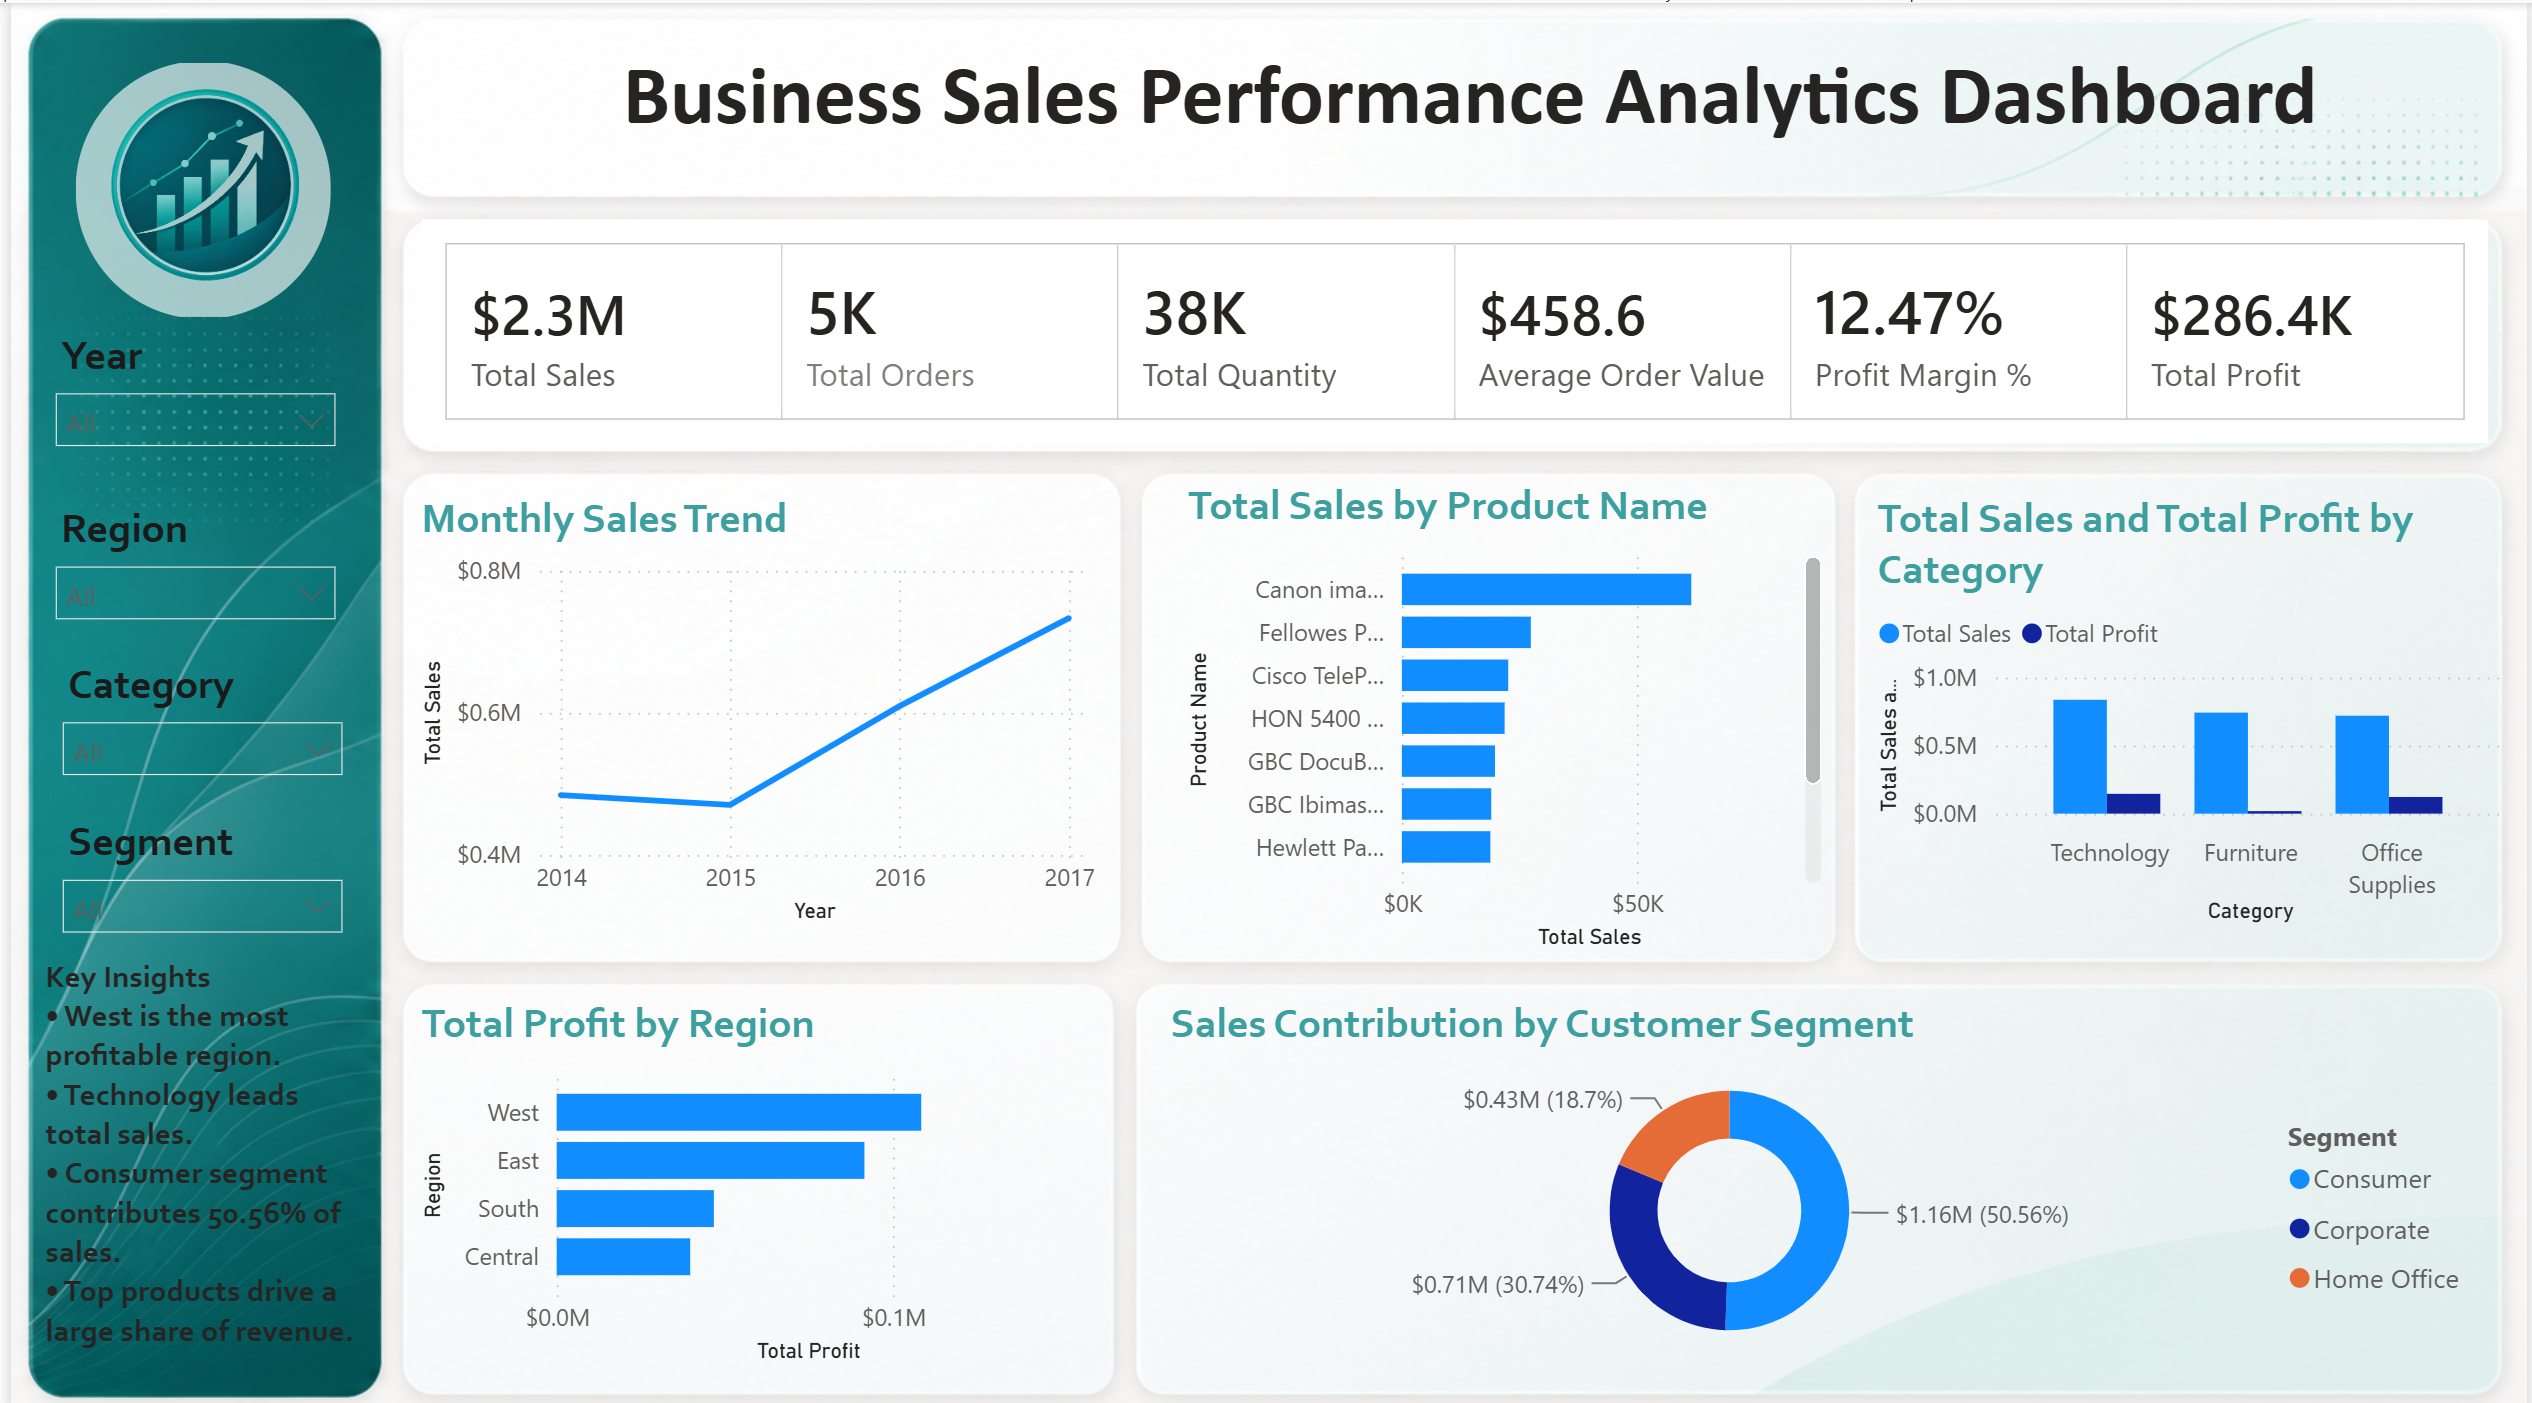

Layout of this report page (visuals, bound fields, positions):
{"tool":"powerbi","page":{"name":"Page 1","canvas":[1280,720],"ordinal":0},"visuals":[{"type":"cardVisual","fields":{"Data":["orders.Total Sales","orders.Total Orders","orders.Total Quantity","orders.Average Order Value","orders.Profit Margin %","orders.Total Profit"]},"box":[204.1,105.4,1065.8,124.8],"z":0},{"type":"textbox","box":[204.1,15.5,1076.5,83.2],"z":1000},{"type":"lineChart","title":"Monthly Sales Trend","fields":{"Y":["orders.Total Sales"],"Category":["orders.Order Date.Variation.Date Hierarchy.Year","orders.Order Date.Variation.Date Hierarchy.Month"]},"box":[204.1,248.6,352.1,224.4],"z":2000},{"type":"clusteredBarChart","fields":{"Category":["orders.Product Name"],"Y":["orders.Total Sales"]},"box":[593.9,241.8,331.7,243.7],"z":3000},{"type":"clusteredColumnChart","fields":{"Category":["orders.Category"],"Y":["orders.Total Sales","orders.Total Profit"]},"box":[944,248.6,328.8,224.4],"z":4000},{"type":"barChart","fields":{"Category":["orders.Region"],"Y":["orders.Total Profit"]},"box":[204.1,505.8,352.1,190.5],"z":5000},{"type":"slicer","fields":{"Values":["orders.Order Date.Variation.Date Hierarchy.Year"]},"box":[12.6,160.6,162.5,79.3],"z":6000},{"type":"slicer","fields":{"Values":["orders.Region"]},"box":[12.6,248.6,162.5,79.3],"z":7000},{"type":"slicer","fields":{"Values":["orders.Category"]},"box":[16.4,327.9,162.5,79.3],"z":8000},{"type":"slicer","fields":{"Values":["orders.Segment"]},"box":[16.4,407.2,162.5,79.3],"z":9000},{"type":"donutChart","title":"Sales Contribution by Customer Segment","fields":{"Y":["orders.Total Sales"],"Category":["orders.Segment"]},"box":[585.1,505.8,675.1,190.5],"z":10000},{"type":"image","box":[32.9,29,129.6,131.5],"z":11000},{"type":"textbox","box":[12.6,479.7,173.1,216.7],"z":12000}]}

Visuals, with their boxes in screenshot pixels (x1, y1, x2, y2), scaled from the page's 1280x720 canvas onto the 2532x1403 screenshot:
cardVisual - orders.Total Sales x orders.Total Orders: (x1=404, y1=205, x2=2512, y2=449)
textbox: (x1=404, y1=30, x2=2531, y2=192)
"Monthly Sales Trend" lineChart: (x1=404, y1=484, x2=1100, y2=922)
clusteredBarChart - orders.Product Name x orders.Total Sales: (x1=1175, y1=471, x2=1831, y2=946)
clusteredColumnChart - orders.Category x orders.Total Sales: (x1=1867, y1=484, x2=2518, y2=922)
barChart - orders.Region x orders.Total Profit: (x1=404, y1=986, x2=1100, y2=1357)
slicer - orders.Order Date.Variation.Date Hierarchy.Year: (x1=25, y1=313, x2=346, y2=467)
slicer - orders.Region: (x1=25, y1=484, x2=346, y2=639)
slicer - orders.Category: (x1=32, y1=639, x2=354, y2=793)
slicer - orders.Segment: (x1=32, y1=793, x2=354, y2=948)
"Sales Contribution by Customer Segment" donutChart: (x1=1157, y1=986, x2=2493, y2=1357)
image: (x1=65, y1=57, x2=321, y2=313)
textbox: (x1=25, y1=935, x2=367, y2=1357)
